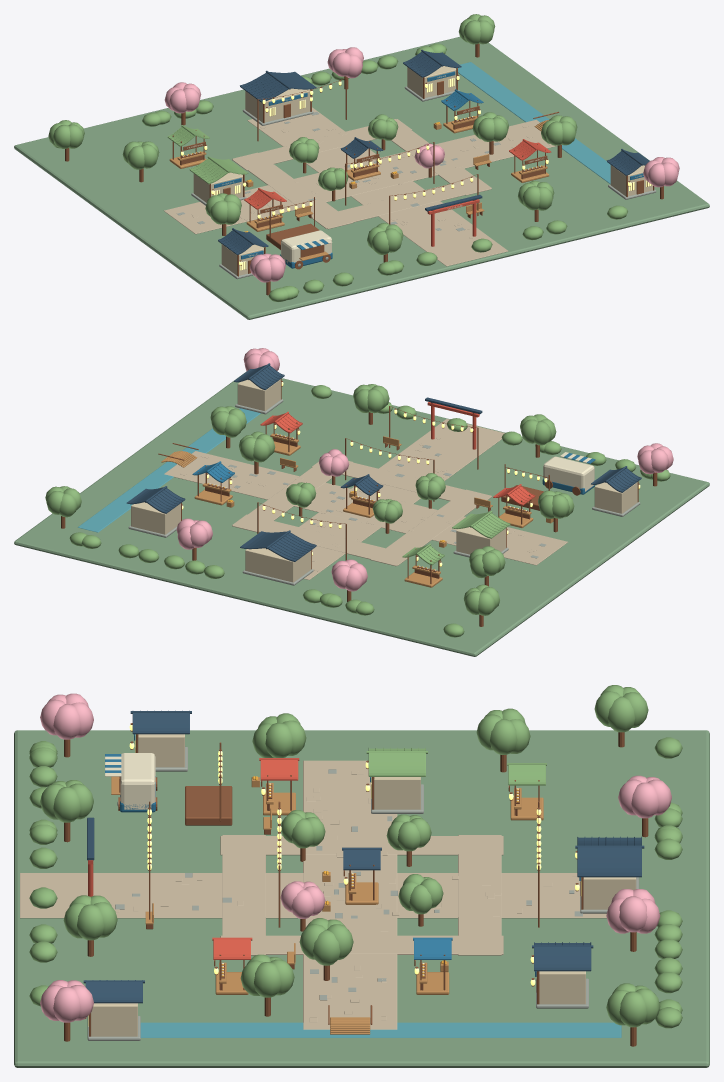
File: yatai-village.glb
The picture shows the model from 3 angles, top to bottom: view 1: azimuth 30°, elevation 25°; view 2: azimuth 150°, elevation 25°; view 3: azimuth 270°, elevation 25°; orthographic projection. The views are drawn at different scales.
Parts seen in each view (by area): view 1: Village_Moss meadow, Village_Sandstone, Village_Leaf canopy, Village_Cedar, Village_Blue slate, Village_Cherry blossom, Village_Plaster, Village_Stream, Village_Honey timber, Village_Vermilion, Village_Indigo canvas, Village_Foundation (+2 smaller); view 2: Village_Moss meadow, Village_Sandstone, Village_Leaf canopy, Village_Plaster, Village_Blue slate, Village_Cherry blossom, Village_Cedar, Village_Honey timber, Village_Stream, Village_Cream linen, Village_Vermilion, Village_Foundation (+2 smaller); view 3: Village_Moss meadow, Village_Sandstone, Village_Leaf canopy, Village_Cherry blossom, Village_Blue slate, Village_Plaster, Village_Stream, Village_Cedar, Village_Honey timber, Village_Foundation, Village_Cream linen, Village_Vermilion (+2 smaller).
Part boxes in pixels (x1,y1,x2,y2): Village_Moss meadow: [14, 36, 709, 319]; Village_Sandstone: [164, 107, 557, 266]; Village_Leaf canopy: [48, 14, 627, 301]; Village_Cedar: [65, 43, 663, 295]; Village_Blue slate: [218, 49, 649, 254]; Village_Cherry blossom: [164, 47, 679, 282]; Village_Plaster: [193, 66, 652, 275]; Village_Stream: [455, 62, 610, 184]; Village_Honey timber: [169, 115, 549, 260]; Village_Vermilion: [244, 139, 551, 246]; Village_Indigo canvas: [214, 71, 643, 268]; Village_Foundation: [177, 86, 656, 279]; Village_Moss meadow: [14, 372, 709, 656]; Village_Sandstone: [164, 419, 567, 579]; Village_Leaf canopy: [45, 384, 670, 637]; Village_Plaster: [131, 379, 637, 582]; Village_Blue slate: [126, 363, 641, 561]; Village_Cherry blossom: [176, 348, 673, 591]; Village_Cedar: [61, 378, 657, 626]; Village_Honey timber: [161, 433, 553, 587]; Village_Stream: [78, 408, 260, 532]; Village_Cream linen: [209, 434, 594, 570]; Village_Vermilion: [260, 402, 535, 505]; Village_Foundation: [128, 399, 640, 585]; Village_Moss meadow: [14, 730, 709, 1067]; Village_Sandstone: [20, 760, 606, 1029]; Village_Leaf canopy: [29, 685, 682, 1028]; Village_Cherry blossom: [40, 693, 671, 1022]; Village_Blue slate: [83, 710, 644, 1003]; Village_Plaster: [91, 734, 636, 1036]; Village_Stream: [140, 1022, 621, 1037]; Village_Cedar: [64, 723, 648, 1046]; Village_Honey timber: [111, 776, 543, 1034]; Village_Foundation: [87, 746, 639, 1040]; Village_Cream linen: [105, 753, 518, 975]; Village_Vermilion: [88, 758, 299, 959].
Size of the model in its own units: 67 by 6.44 by 59.
